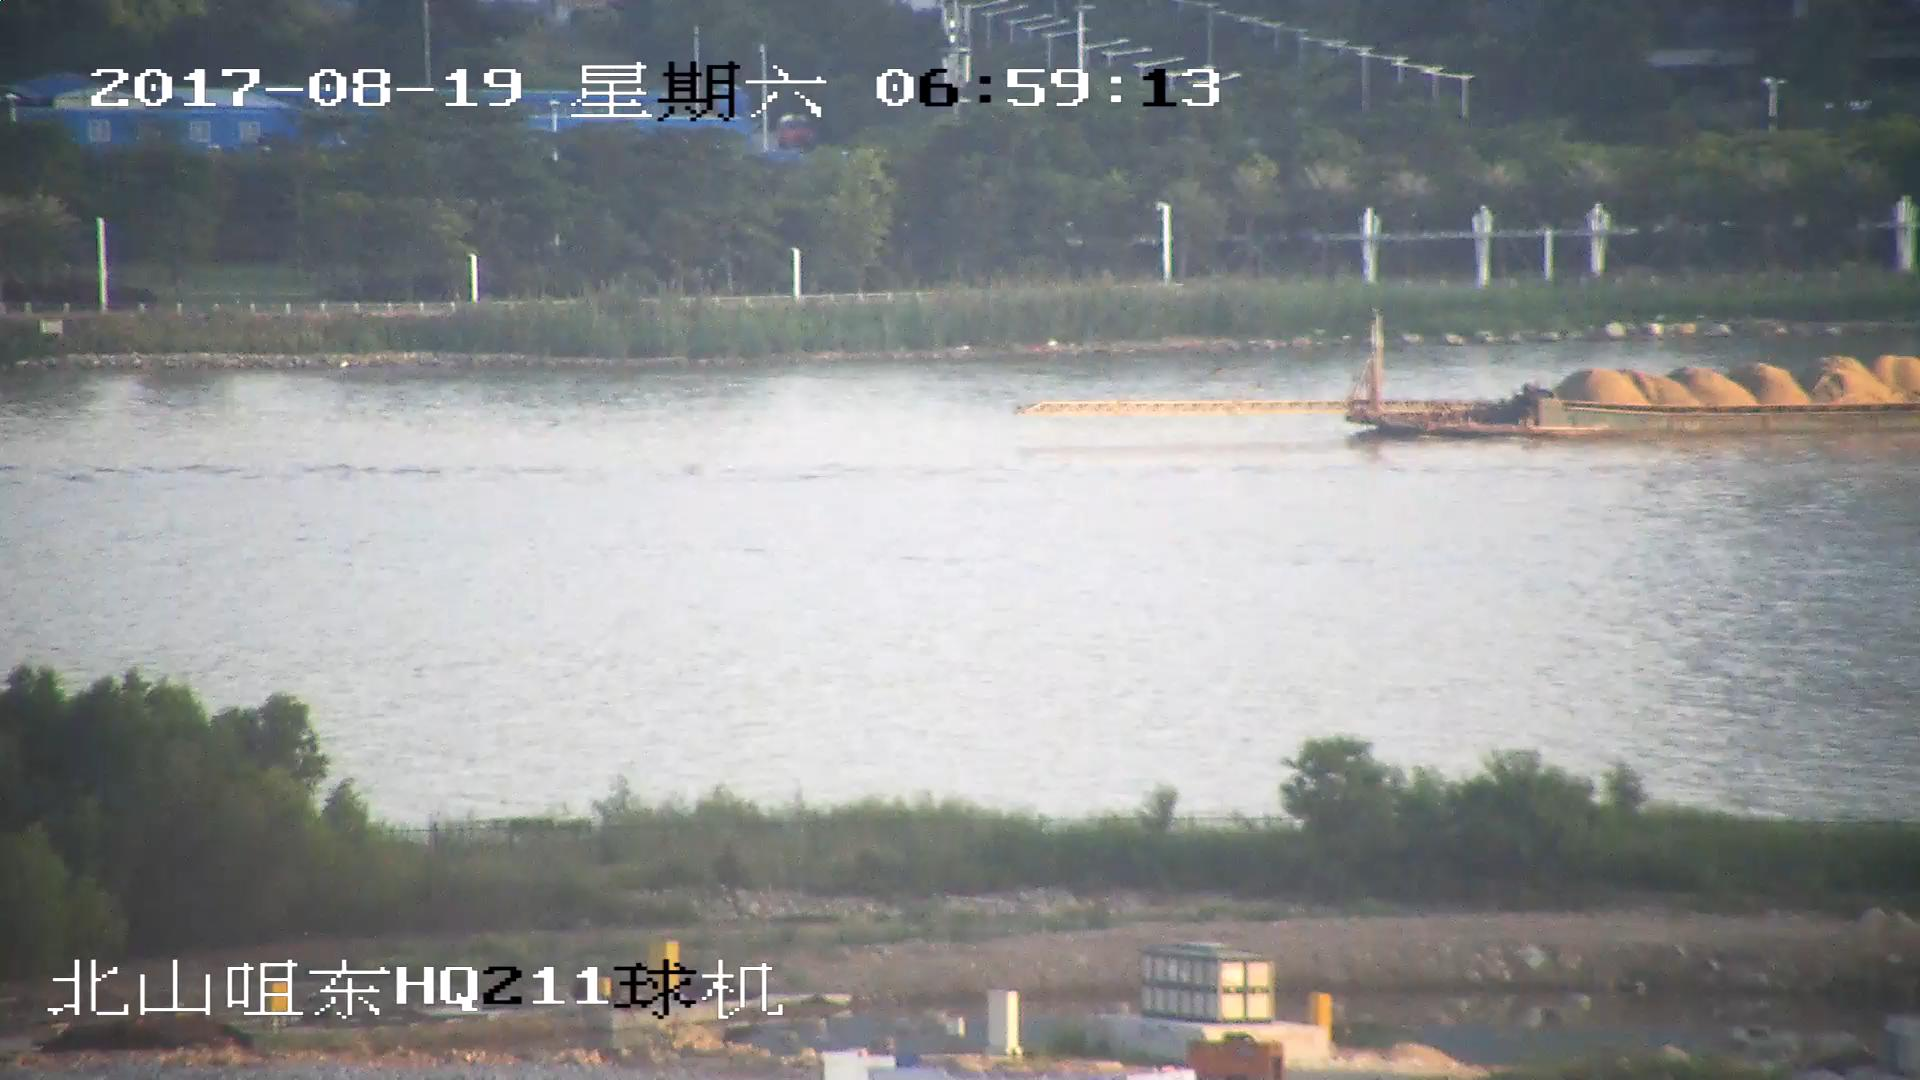ore carrier: (1022, 304, 1920, 446)
